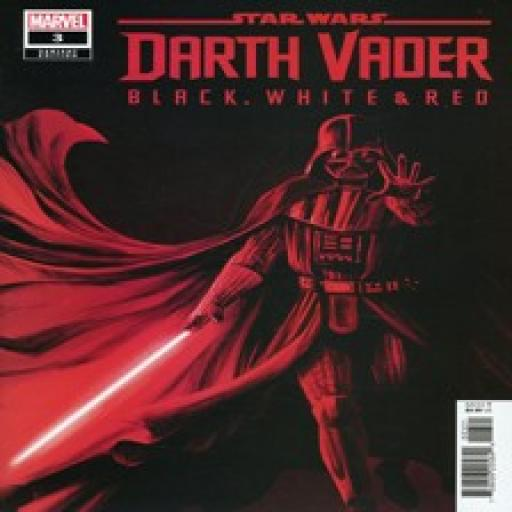human: (202, 111, 438, 512)
sith saber: (12, 305, 228, 467)
